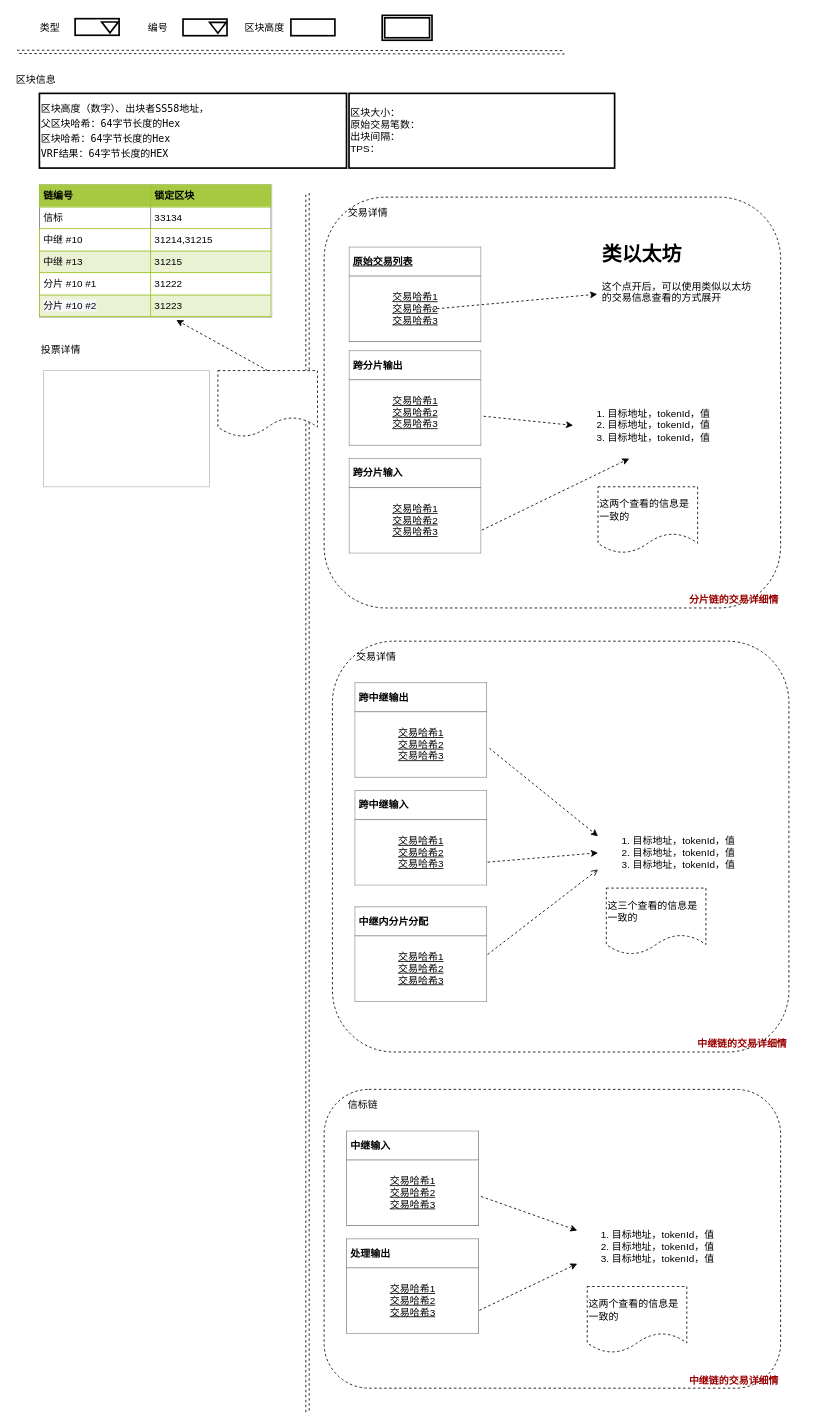
Image size: 836x1427. Some labels were removed from this diagram. The shapes that lost their labels are listed below. From the top down, each one's centre as x and y in pixels, then its label:
[406,27]: 查看
[267,403]: 点击区块可以跳转查看该区块的信息
[126,428]: 投票者地者 投票顺位 Qmxxxxxxx 1 Qmxxxxxxx 1 Qmxxxxxxx 无 Qmxxxxxxx 2
